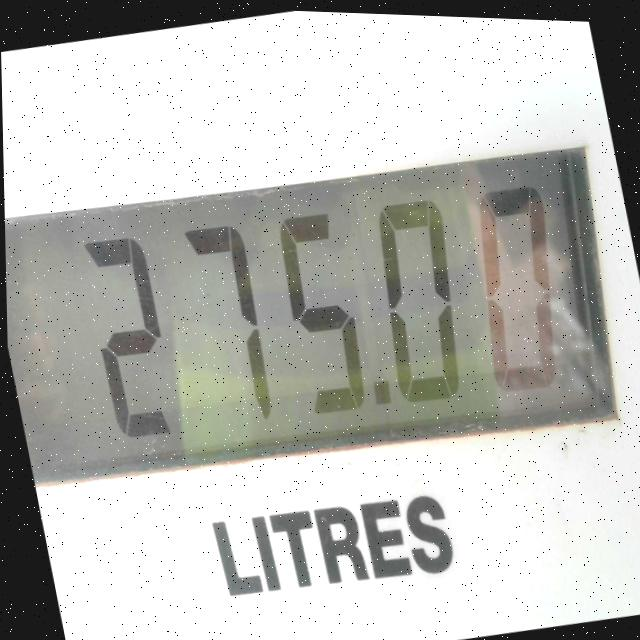.: (358, 354, 403, 433)
0: (451, 172, 589, 416), (356, 179, 484, 415)
2: (68, 205, 192, 447)
5: (268, 205, 376, 418)
7: (179, 213, 297, 447)
